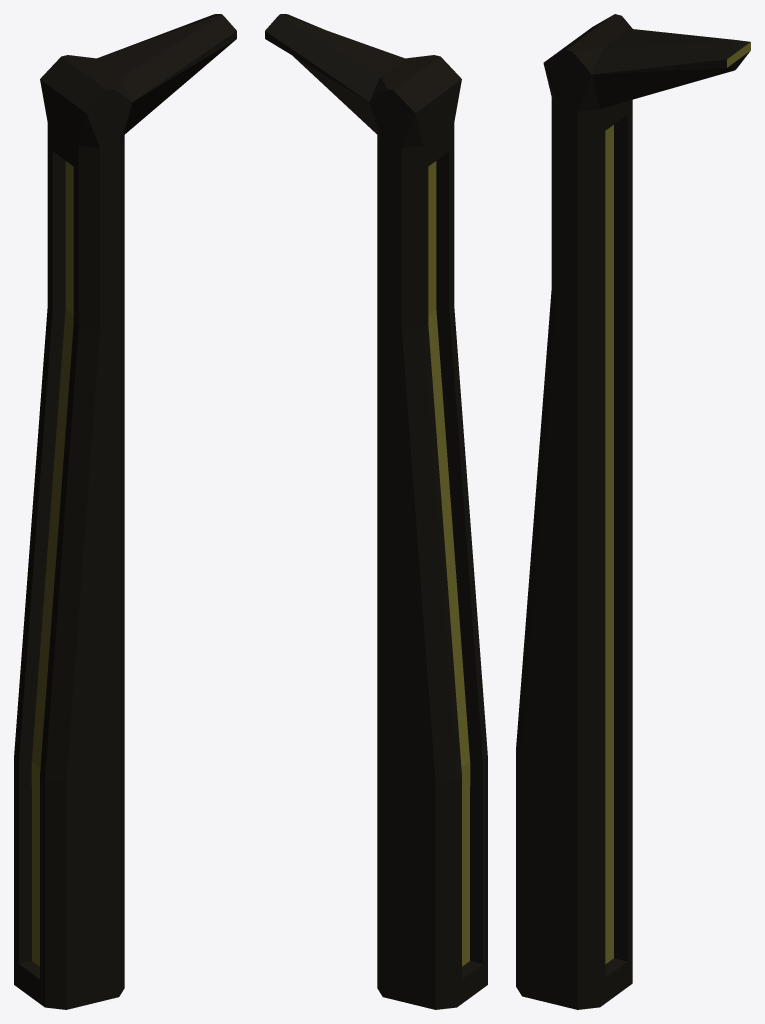
The model's file is Stolb1.fbx.
3 renders of one model, left to right at view 1: azimuth 30°, elevation 25°; view 2: azimuth 150°, elevation 25°; view 3: azimuth 330°, elevation 25°, orthographic. The views are drawn at different scales.
Parts seen in each view (by area): view 1: Cube; view 2: Cube; view 3: Cube.
Part boxes in pixels (left/top/right/bottom): Cube: left=14, top=14, right=236, bottom=1009; Cube: left=265, top=14, right=487, bottom=1009; Cube: left=516, top=14, right=750, bottom=1009.
Bounding box in the file's own units: 180 × 821 × 74.4.
